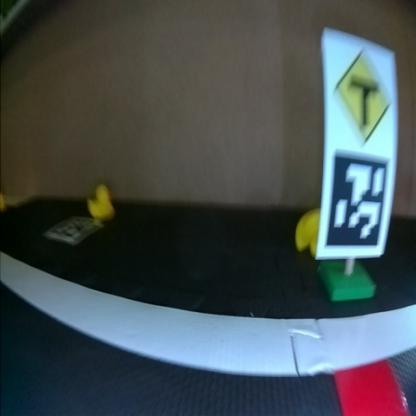Duckie: (296, 208, 320, 252), (92, 183, 115, 217)
QR code: (326, 152, 388, 248)
